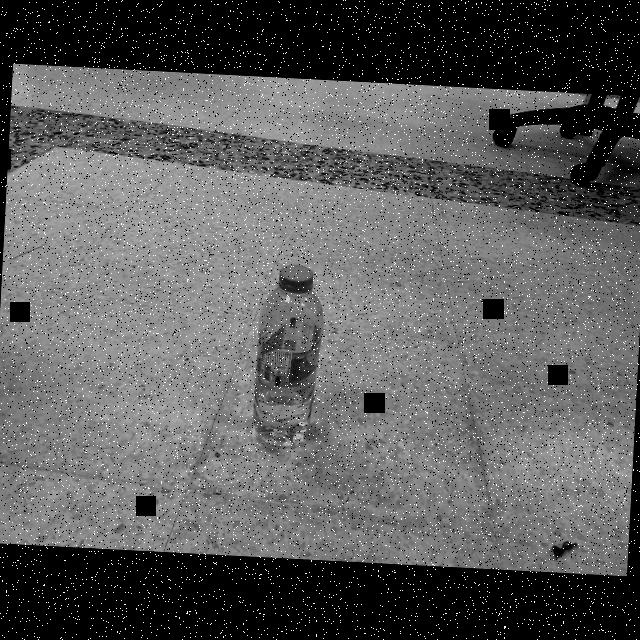plastic_bottle: (249, 262, 327, 452)
plastic_bottle_cap: (276, 264, 316, 297)
